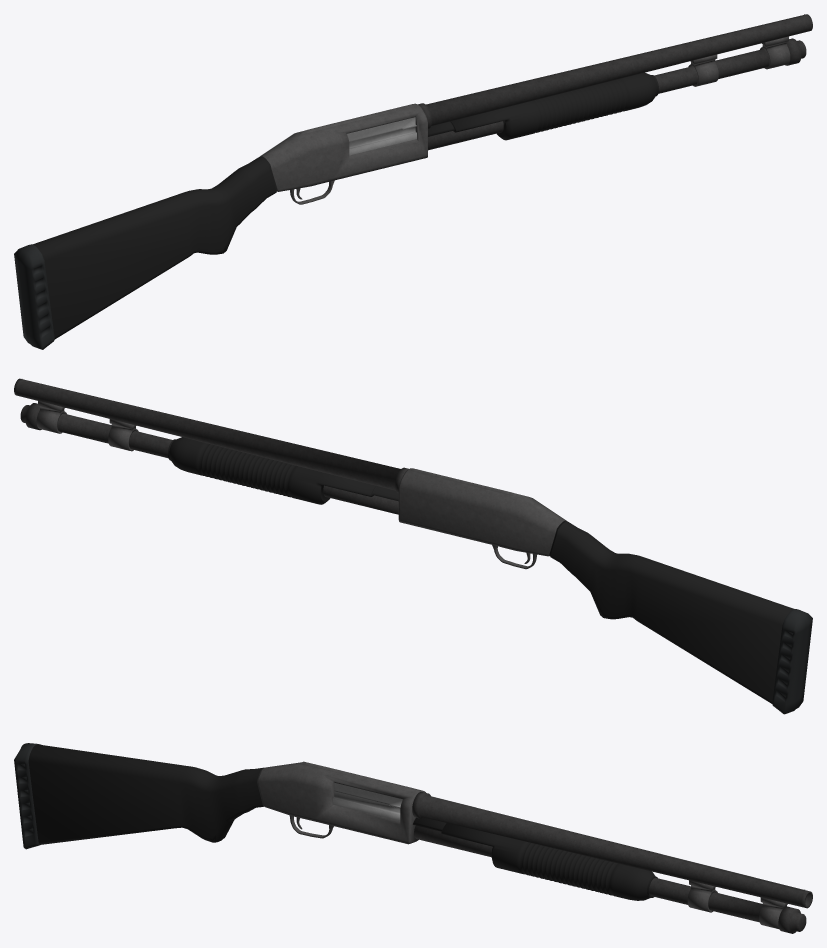
Rendered from mossberg.glb.
The picture shows the model from 3 angles, top to bottom: view 1: azimuth 30°, elevation 25°; view 2: azimuth 150°, elevation 25°; view 3: azimuth 330°, elevation 25°; orthographic projection.
Parts seen in each view (by area): view 1: Stock_0, Barrel_1, Main_5, ChargingHandle_8, GasBarrel_2, RubberStock_4, MainDoor_10, Connector1_3, Connector2_7; view 2: Stock_0, Main_5, Barrel_1, ChargingHandle_8, GasBarrel_2, RubberStock_4, Connector1_3, Connector2_7; view 3: Stock_0, Barrel_1, Main_5, ChargingHandle_8, GasBarrel_2, RubberStock_4, MainDoor_10, Connector2_7, Connector1_3.
Boxes of the visible parts, left/top/right/bottom form: Stock_0: left=33, top=156, right=277, bottom=339; Barrel_1: left=418, top=14, right=812, bottom=128; Main_5: left=259, top=103, right=427, bottom=191; ChargingHandle_8: left=428, top=72, right=658, bottom=140; GasBarrel_2: left=428, top=38, right=806, bottom=150; RubberStock_4: left=14, top=244, right=54, bottom=349; MainDoor_10: left=347, top=117, right=416, bottom=155; Connector1_3: left=760, top=36, right=790, bottom=69; Connector2_7: left=688, top=54, right=718, bottom=86; Stock_0: left=549, top=521, right=793, bottom=703; Main_5: left=398, top=468, right=567, bottom=556; Barrel_1: left=14, top=378, right=408, bottom=493; ChargingHandle_8: left=168, top=437, right=398, bottom=504; GasBarrel_2: left=20, top=403, right=398, bottom=514; RubberStock_4: left=772, top=609, right=812, bottom=714; Connector1_3: left=36, top=401, right=66, bottom=433; Connector2_7: left=108, top=419, right=138, bottom=451; Stock_0: left=28, top=744, right=264, bottom=844; Barrel_1: left=412, top=792, right=812, bottom=908; Main_5: left=258, top=761, right=425, bottom=844; ChargingHandle_8: left=413, top=817, right=657, bottom=900; GasBarrel_2: left=414, top=825, right=806, bottom=933; RubberStock_4: left=14, top=743, right=41, bottom=849; MainDoor_10: left=333, top=782, right=402, bottom=820; Connector2_7: left=687, top=880, right=717, bottom=912; Connector1_3: left=759, top=897, right=787, bottom=928.
Size of the model in its own units: 1.2 by 0.2167 by 0.0514.
Materials: 1 (1 with a texture image).
